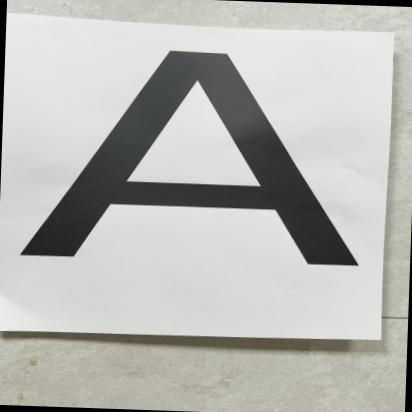seat: (13, 23, 390, 299)
